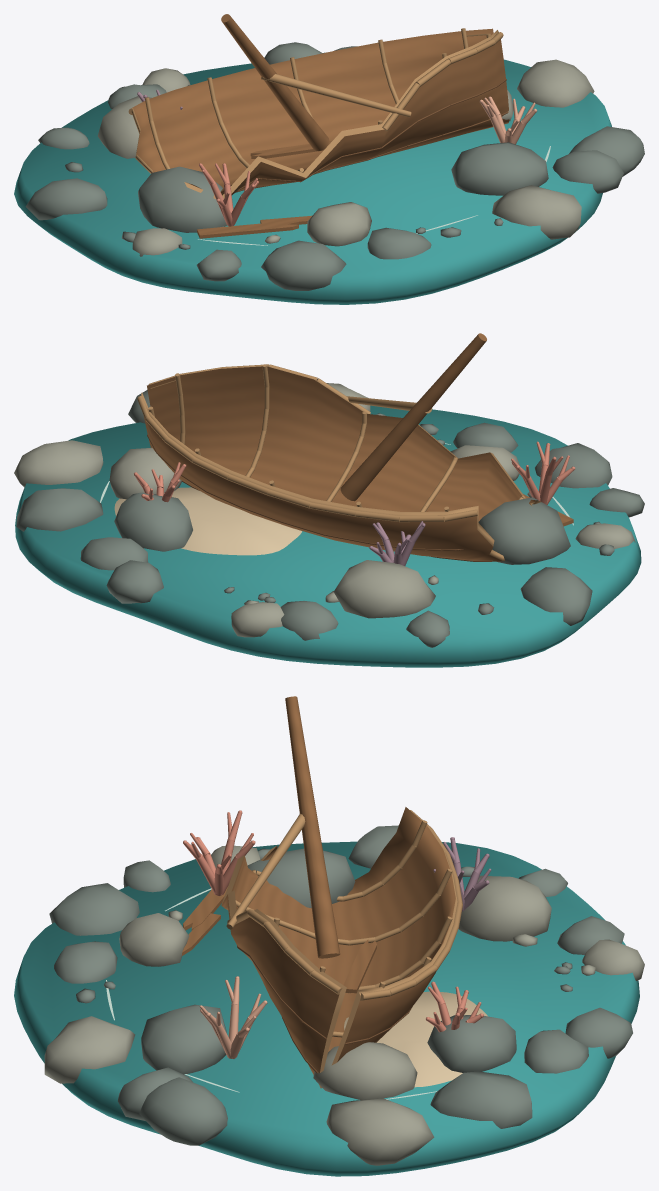
The model's file is shipwreck-reef-v3.glb.
The picture shows the model from 3 angles, top to bottom: view 1: azimuth 30°, elevation 25°; view 2: azimuth 150°, elevation 25°; view 3: azimuth 270°, elevation 25°; orthographic projection. The views are drawn at different scales.
Visible parts, largest first — view 1: Shipwreck | collectible export; view 2: Shipwreck | collectible export; view 3: Shipwreck | collectible export.
Part boxes in pixels (x1,y1,x2,y2): Shipwreck | collectible export: (14,14,644,304); Shipwreck | collectible export: (14,333,644,667); Shipwreck | collectible export: (14,696,644,1176).
Bounding box in the file's own units: 1.72 × 0.6688 × 1.45.
Materials: 11 (1 with a texture image).
